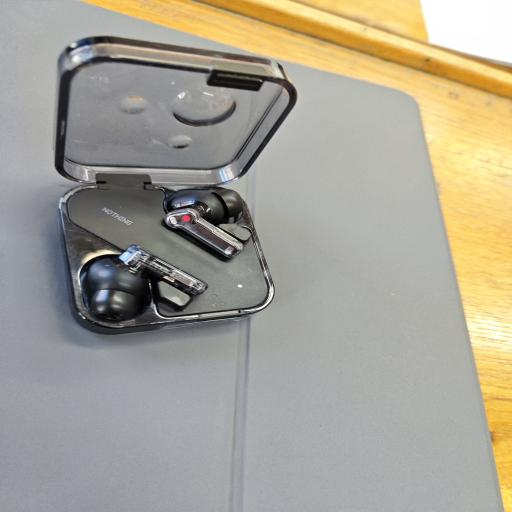CASTI: (46, 28, 308, 343)
